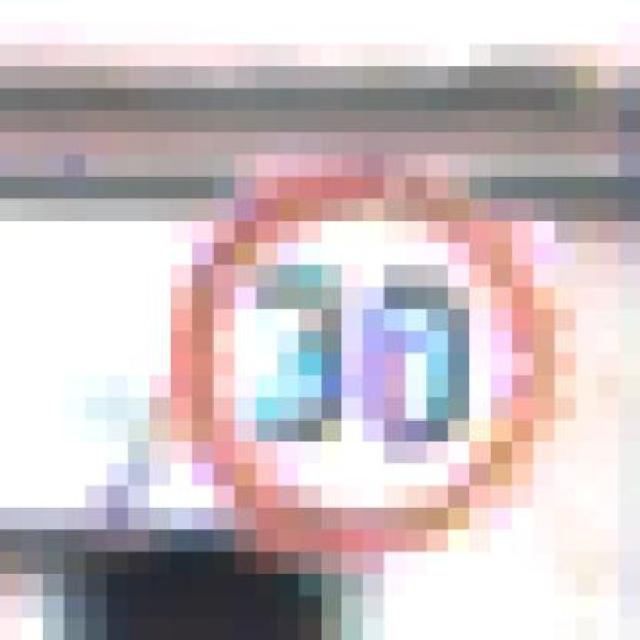Speed Limit 30 KMPh: (149, 154, 597, 574)
